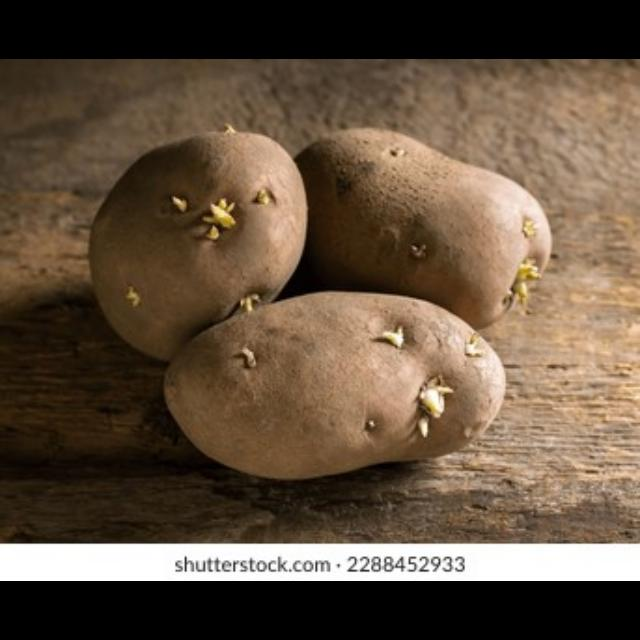Sprouted potato: (172, 284, 520, 480), (79, 123, 311, 369), (296, 117, 556, 336)
